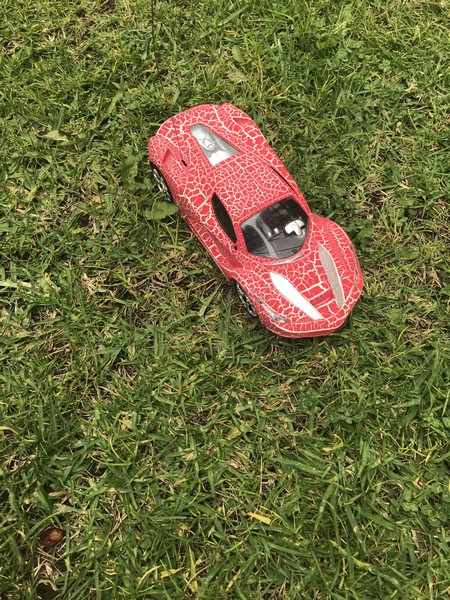RC: (145, 102, 365, 341)
